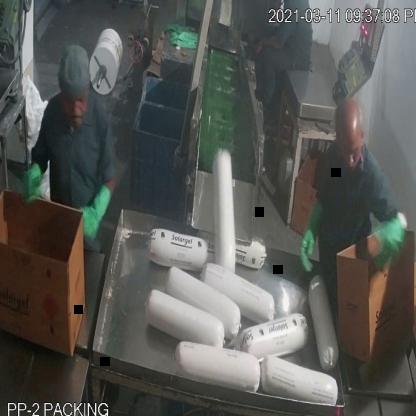glove: (369, 204, 415, 282), (297, 204, 337, 288), (74, 176, 114, 236)
